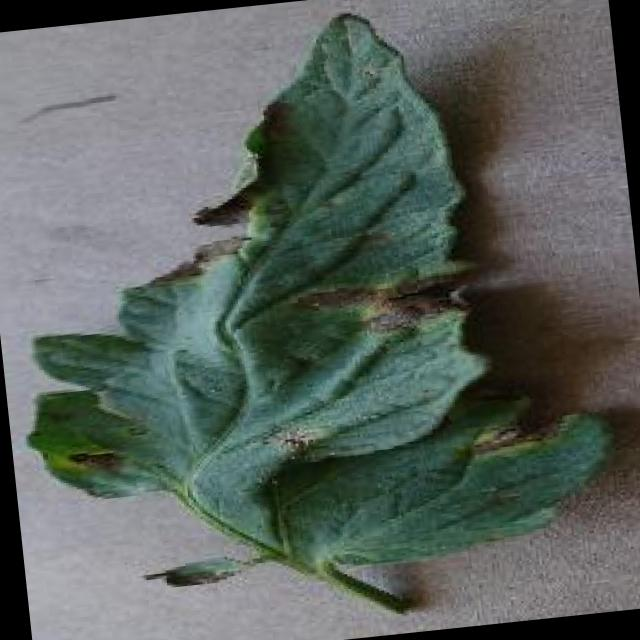Tomato_Early_Blight: (347, 146, 570, 538)
